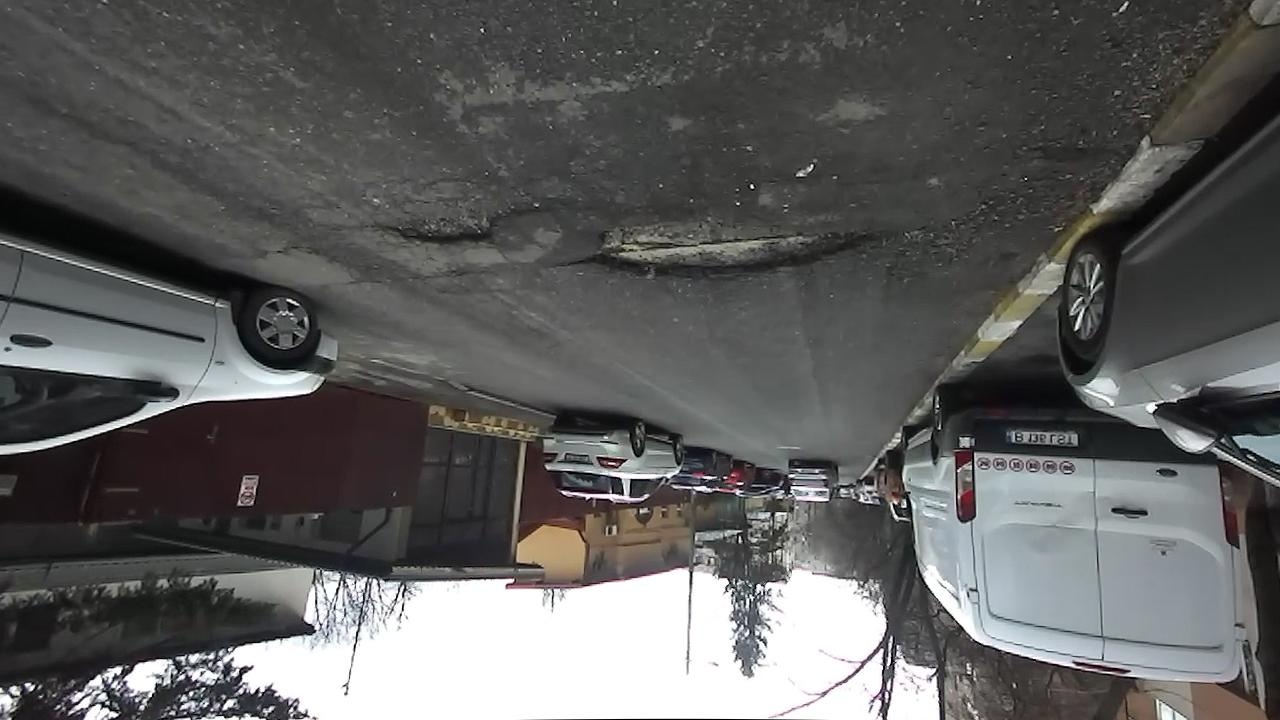pothole: (559, 212, 896, 289), (381, 207, 530, 251)
